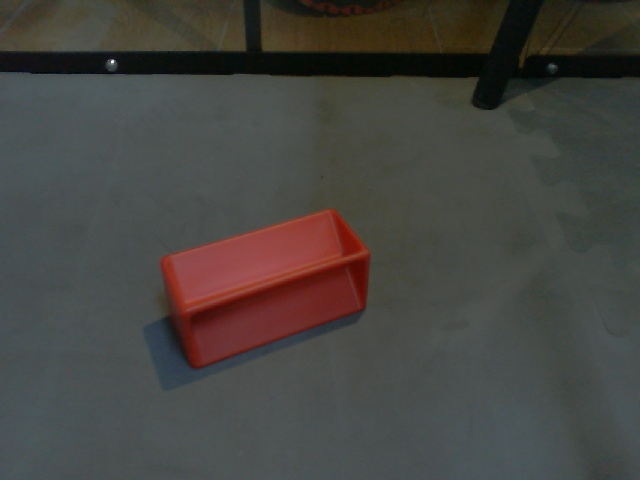RedSample: (158, 205, 370, 371)
